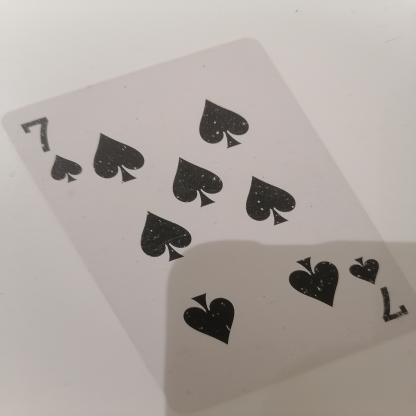7S: (338, 248, 410, 332), (8, 118, 82, 184)
